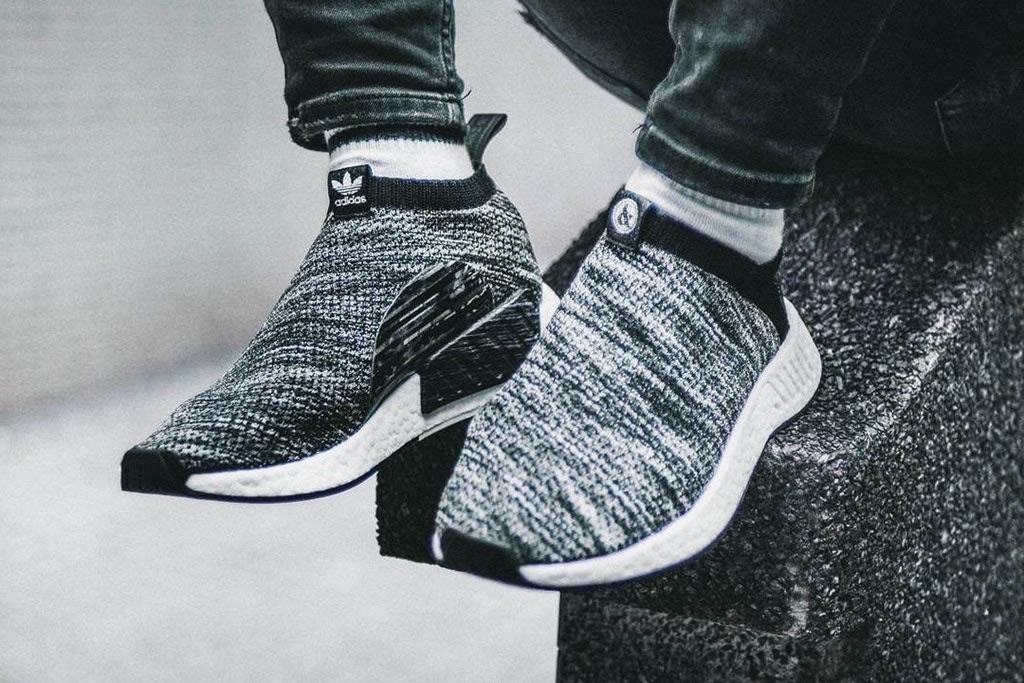sneaker: (115, 133, 537, 503), (426, 203, 820, 592)
